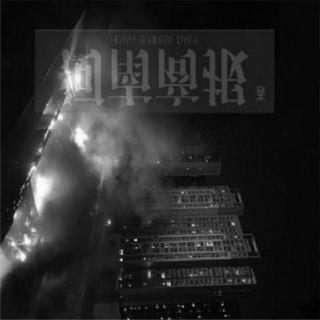Fire: (1, 102, 93, 282)
Smoke: (97, 104, 187, 202)
